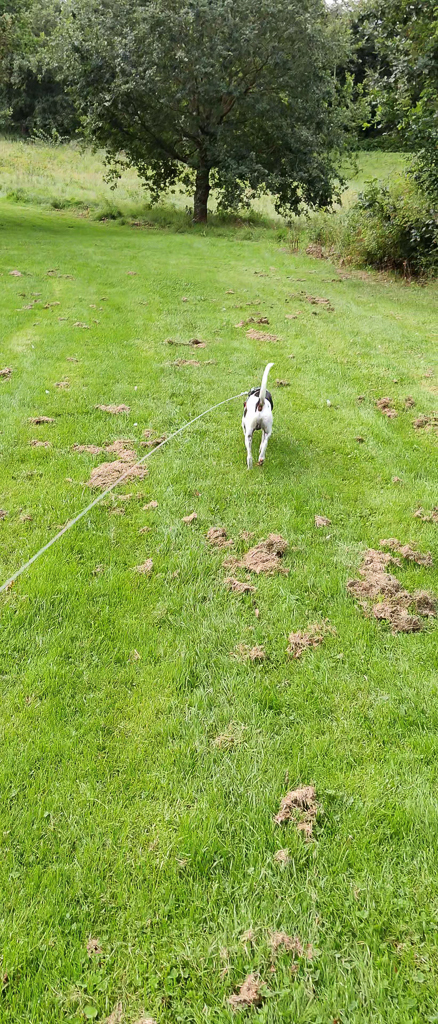Dog: (222, 355, 298, 478)
